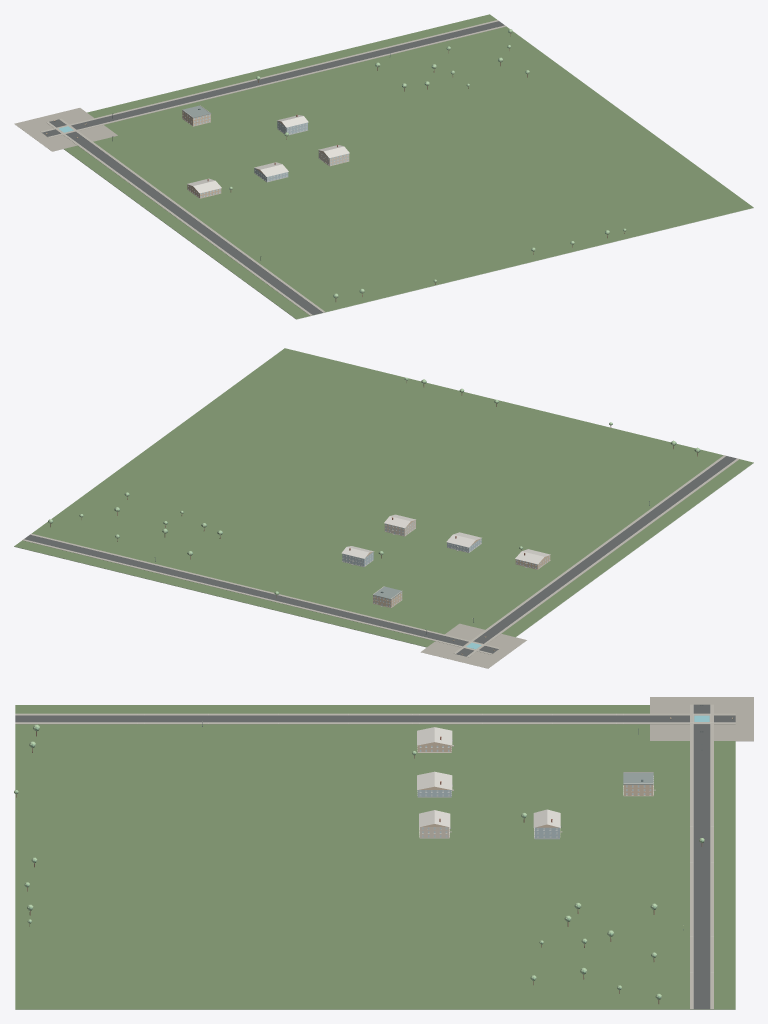
File: chunk_2_2_high.glb
3 renders of one model, top to bottom at view 1: azimuth 30°, elevation 25°; view 2: azimuth 150°, elevation 25°; view 3: azimuth 270°, elevation 25°, orthographic. The views are drawn at different scales.
Parts seen in each view (by area): view 1: city_forest_floor, city_world_asphalt, city_world_sidewalk, city_village_stone, city_curb, city_roof_tile, city_grass; view 2: city_forest_floor, city_world_asphalt, city_world_sidewalk, city_village_stone, city_curb, city_roof_tile, city_grass; view 3: city_forest_floor, city_world_asphalt, city_world_sidewalk, city_village_stone, city_curb, city_roof_tile, city_wall_sand, city_grass, city_trim, city_wall_blue, city_foliage.
Part boxes in pixels (box(x1,y1,x2,y2)): city_forest_floor: box(64, 14, 753, 319); city_world_asphalt: box(42, 21, 504, 314); city_world_sidewalk: box(40, 20, 506, 315); city_village_stone: box(14, 108, 117, 151); city_curb: box(42, 21, 503, 314); city_roof_tile: box(187, 115, 349, 193); city_grass: box(63, 149, 753, 319); city_forest_floor: box(14, 348, 753, 646); city_world_asphalt: box(24, 456, 736, 656); city_world_sidewalk: box(22, 455, 739, 657); city_village_stone: box(420, 623, 526, 668); city_curb: box(24, 455, 737, 655); city_roof_tile: box(341, 514, 550, 564); city_grass: box(14, 463, 753, 647); city_forest_floor: box(15, 705, 735, 1009); city_world_asphalt: box(15, 704, 735, 1009); city_world_sidewalk: box(15, 704, 735, 1009); city_village_stone: box(650, 697, 753, 741); city_curb: box(15, 705, 735, 1008); city_roof_tile: box(417, 727, 560, 827); city_wall_sand: box(417, 742, 653, 827); city_grass: box(15, 1009, 735, 1009); city_trim: box(417, 745, 653, 838); city_wall_blue: box(417, 790, 559, 839); city_foliage: box(14, 724, 704, 999).
Size of the model in its own units: 525 by 13.52 by 526.
